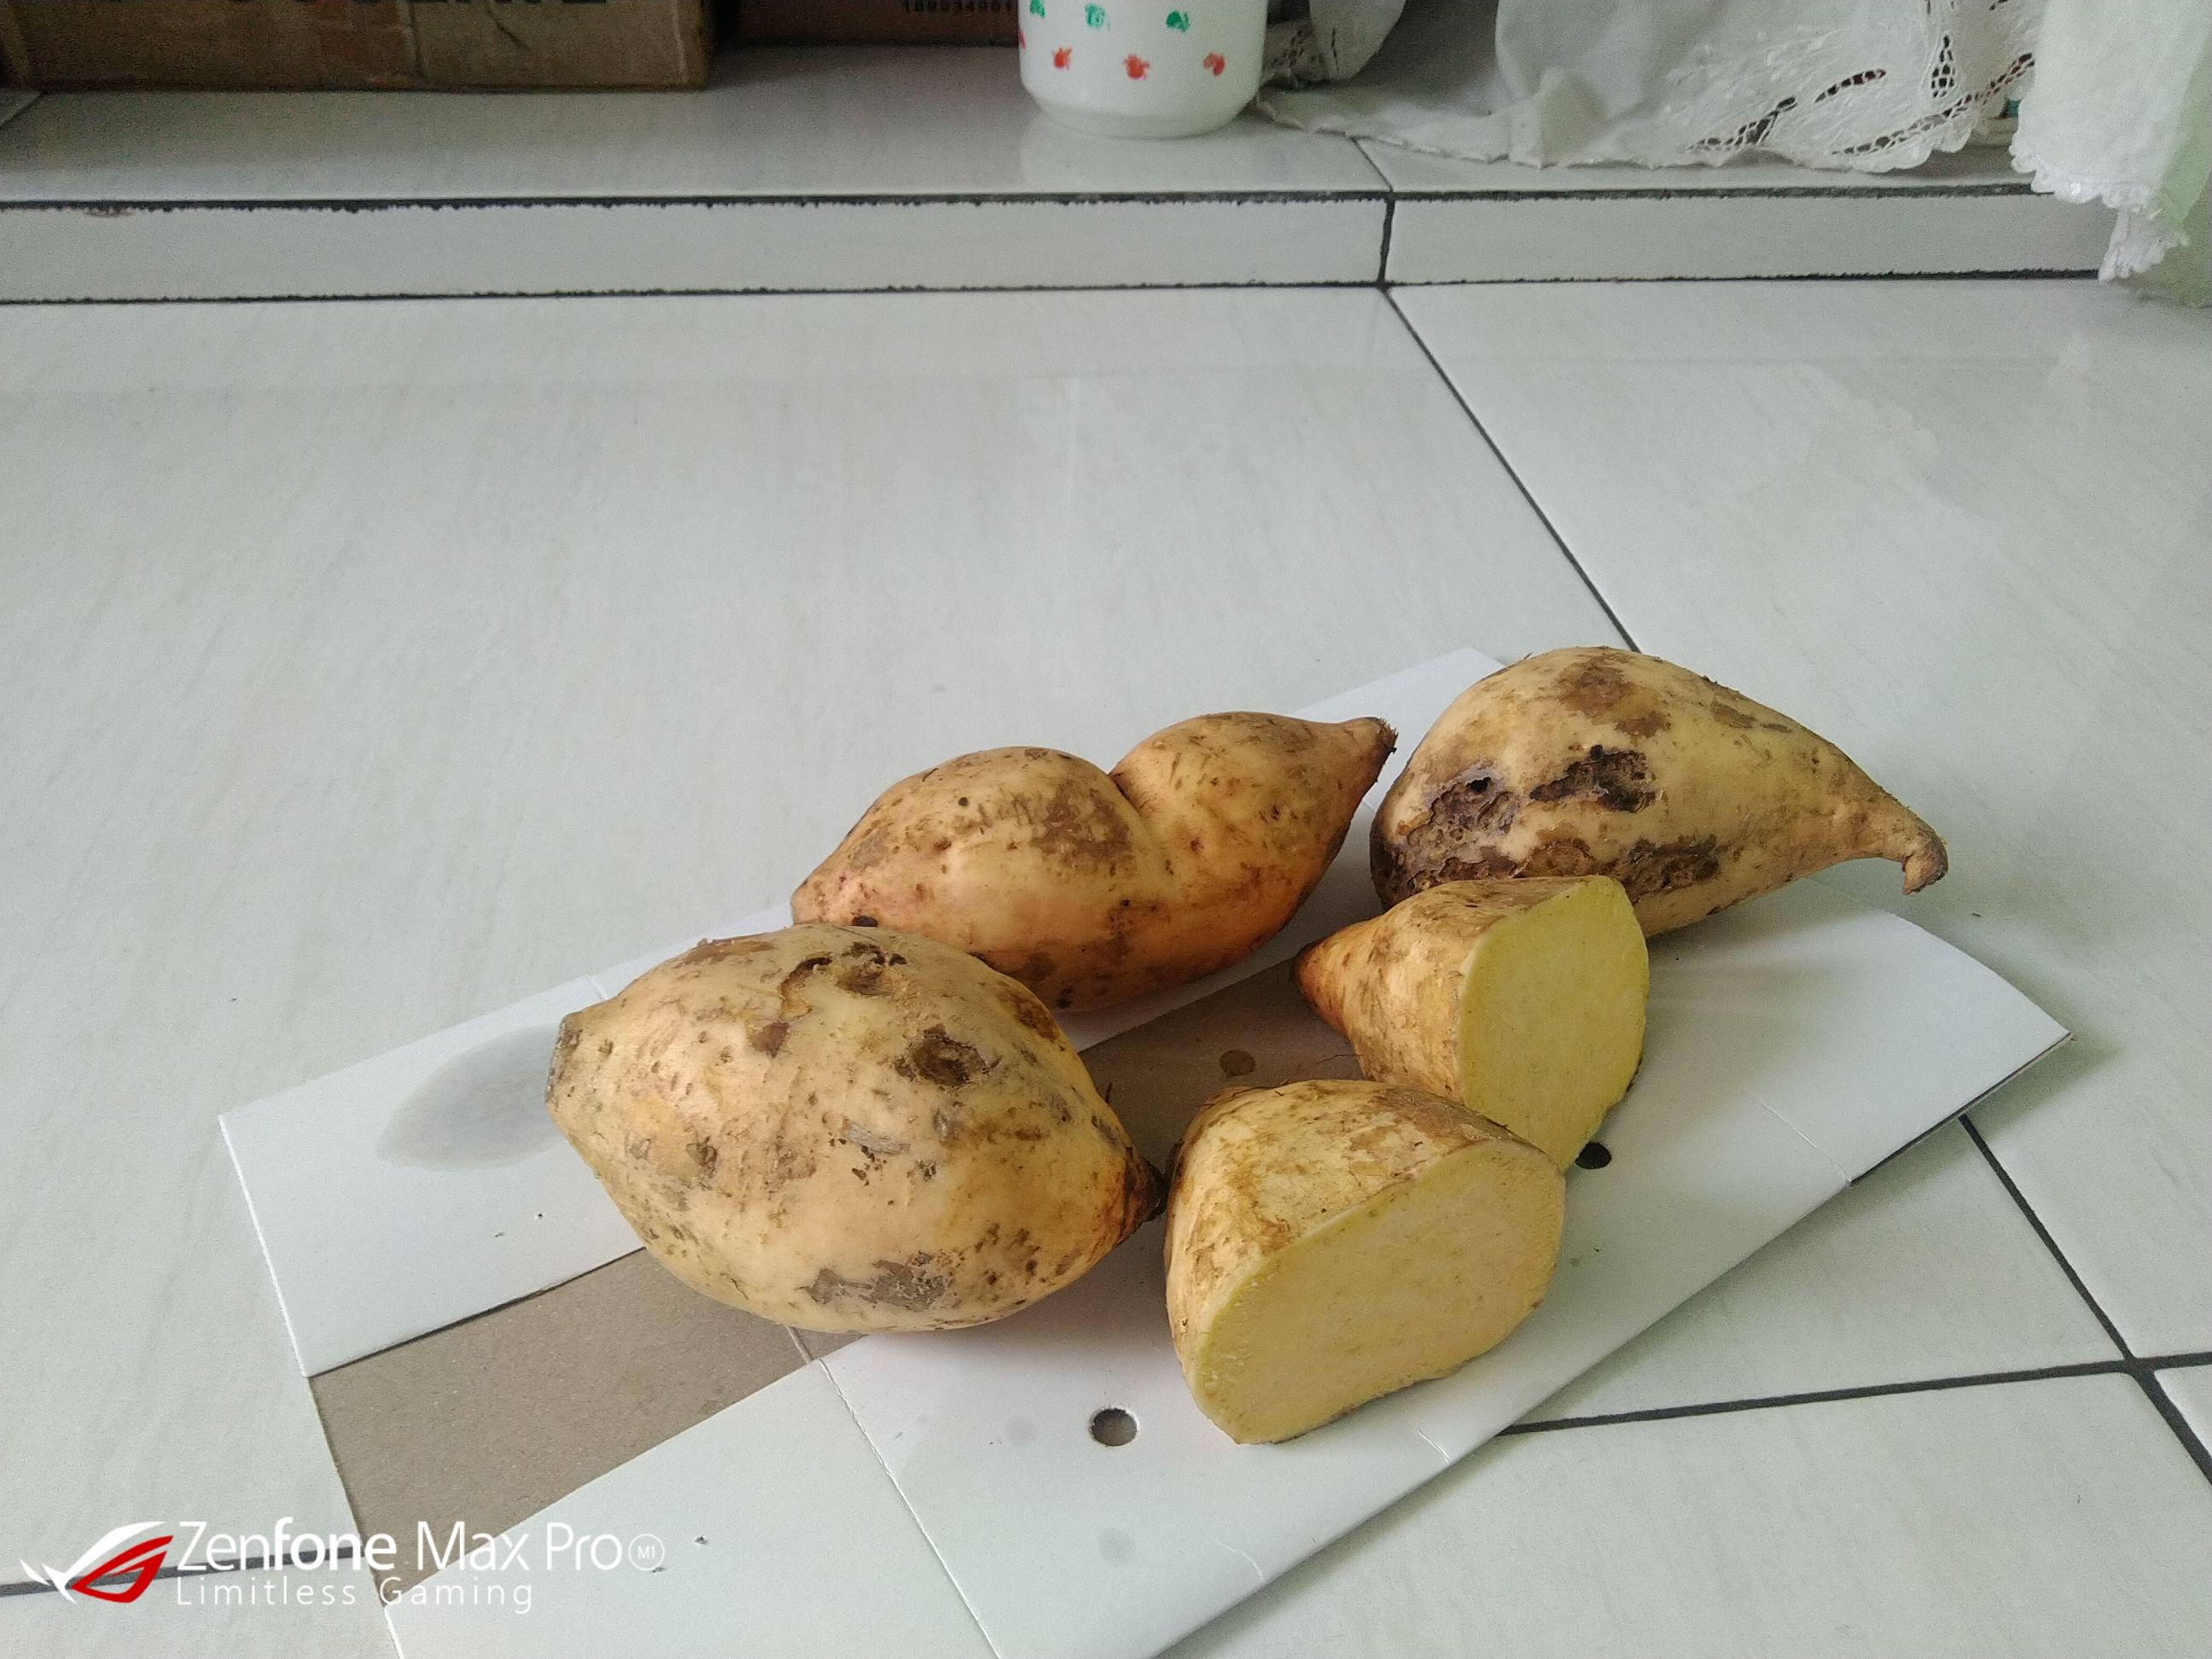ubi kuning: (542, 911, 1165, 1335), (763, 685, 1395, 1026), (1374, 643, 1958, 934), (1162, 1072, 1566, 1439), (1289, 863, 1662, 1166)
